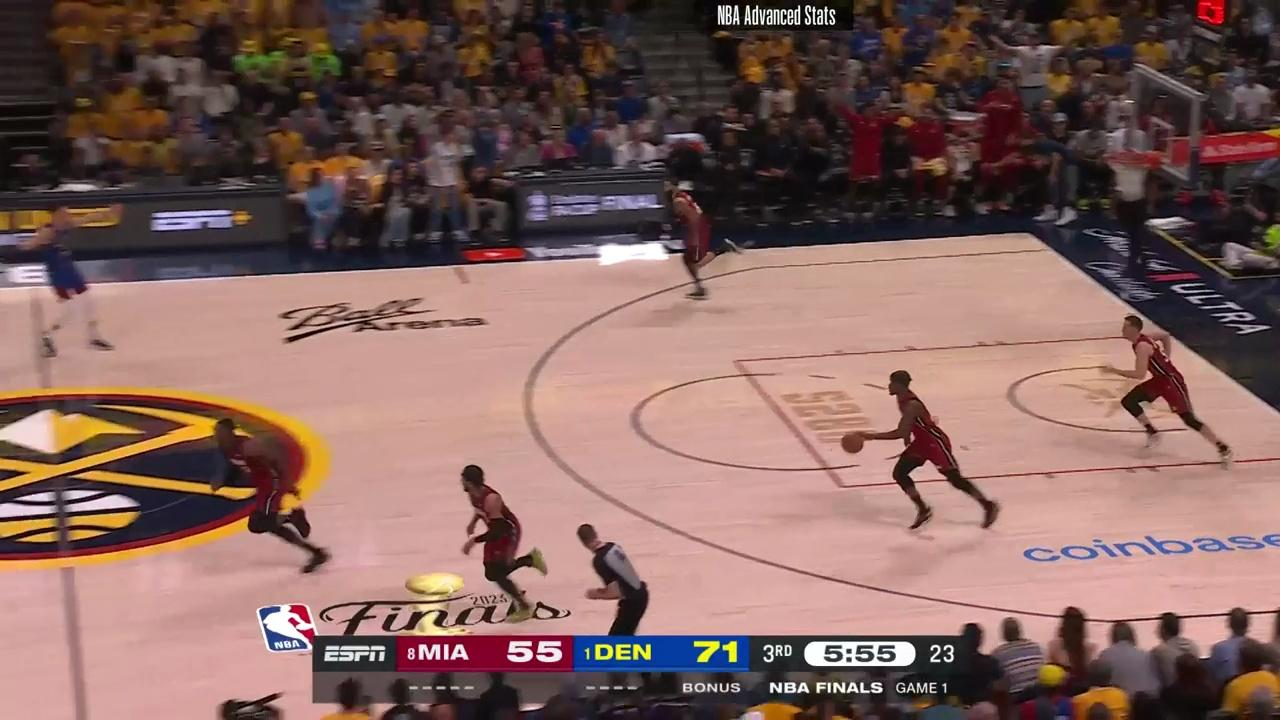Backboard: (1129, 68, 1200, 184)
Ball: (842, 432, 862, 453)
Basket: (1107, 148, 1154, 202)
Person: (868, 367, 1003, 535), (213, 402, 332, 576), (1105, 314, 1232, 470), (15, 196, 121, 360), (454, 458, 560, 621), (661, 178, 740, 306)
Referee: (579, 518, 658, 637)
Shot Clock: (1185, 1, 1228, 48)
